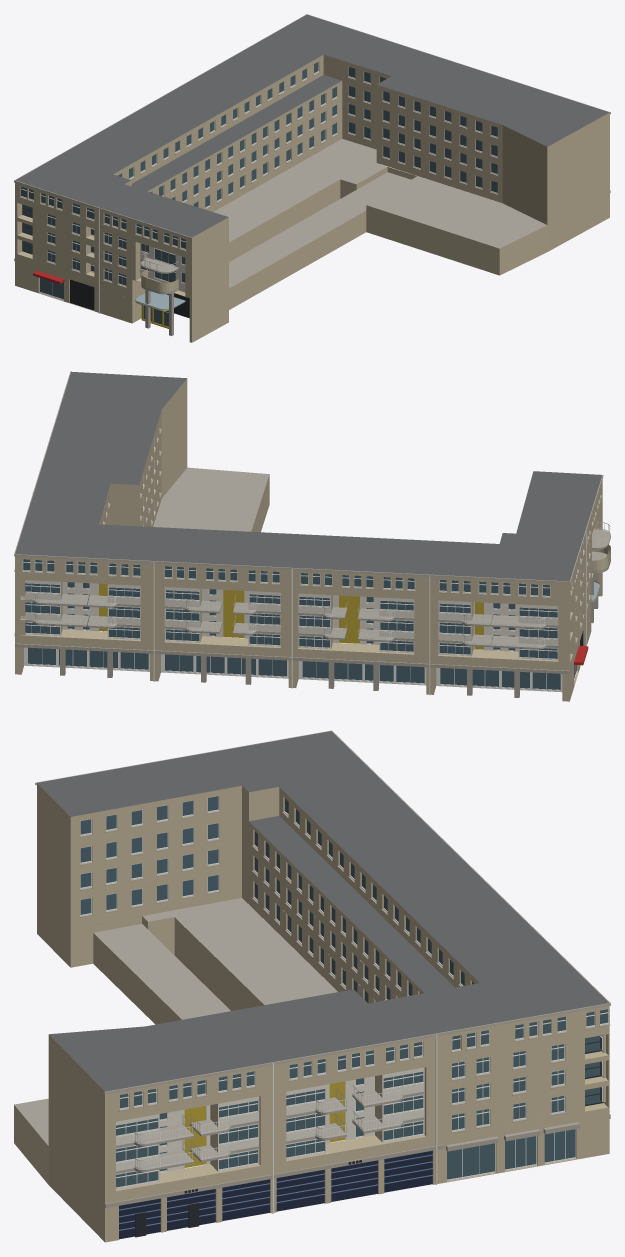
File: kinkerstraat-89.glb
3 renders of one model, top to bottom at view 1: azimuth 30°, elevation 25°; view 2: azimuth 150°, elevation 25°; view 3: azimuth 270°, elevation 25°, orthographic. The views are drawn at different scales.
Visible parts, largest first — view 1: kinkerstraat-89; view 2: kinkerstraat-89; view 3: kinkerstraat-89.
Boxes of the visible parts, x1=… form: kinkerstraat-89: x1=14, y1=14, x2=610, y2=342; kinkerstraat-89: x1=14, y1=371, x2=610, y2=701; kinkerstraat-89: x1=14, y1=730, x2=610, y2=1242.
Size of the model in its own units: 80.24 by 15.59 by 55.95.
